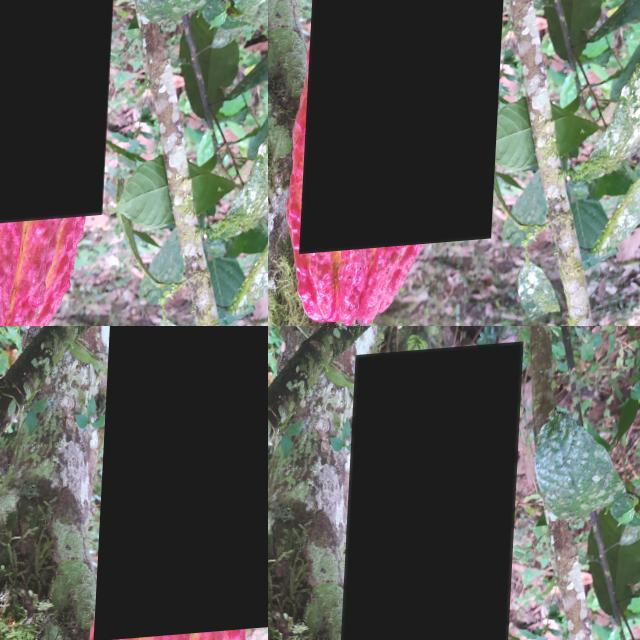Sana: (334, 347, 523, 640), (304, 0, 516, 257), (97, 326, 268, 640), (0, 412, 138, 640), (0, 0, 123, 235)
